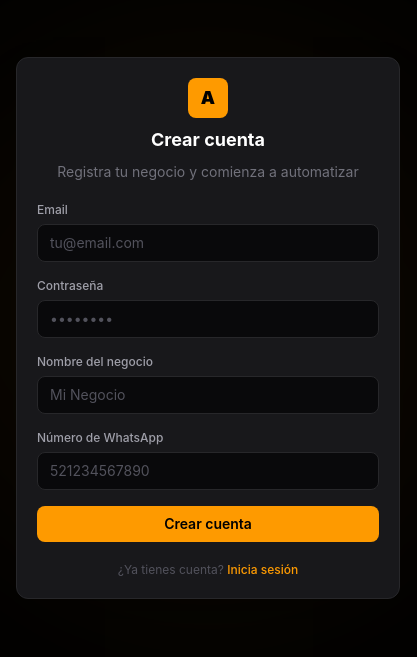
Test: RegisterPage › validates password length
Type "a@b.com" into the field with placeholder "tu@email.com" at (208, 243), box [37, 224, 379, 262]
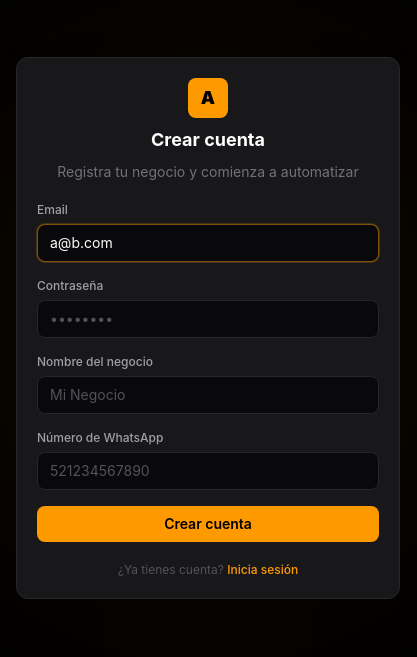
Type "short" into the password field with placeholder "••••••••" at (208, 319), box [37, 300, 379, 338]
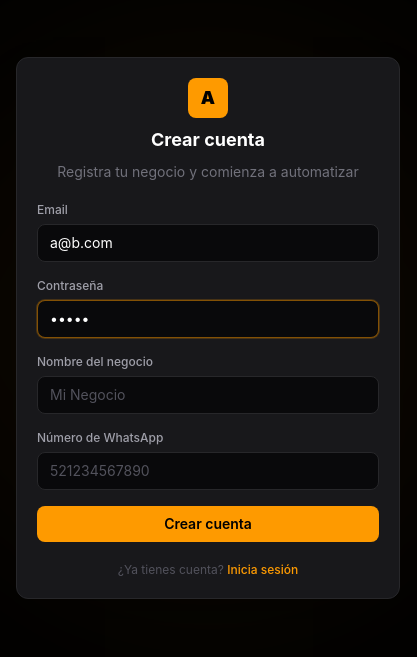
Click the button "Crear cuenta" at (208, 524), box [37, 506, 379, 542]
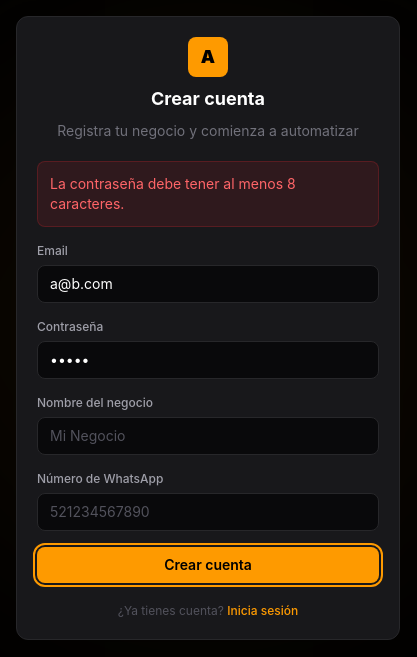
Now the text "La contraseña debe tener al menos 8 caracteres." is shown, box [50, 175, 296, 212]
